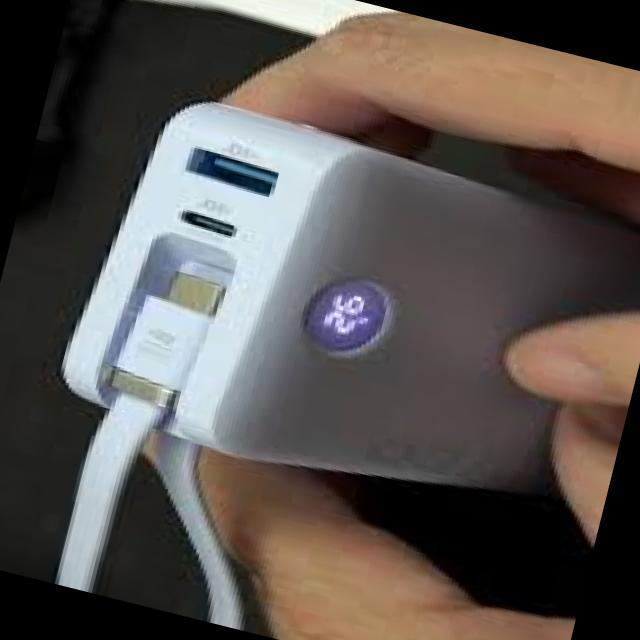portable-charger: (43, 76, 640, 546)
